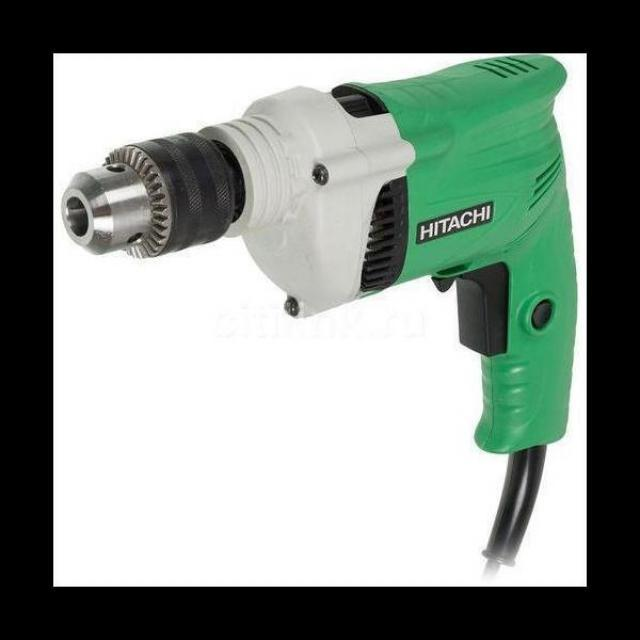drill: (61, 53, 579, 570)
